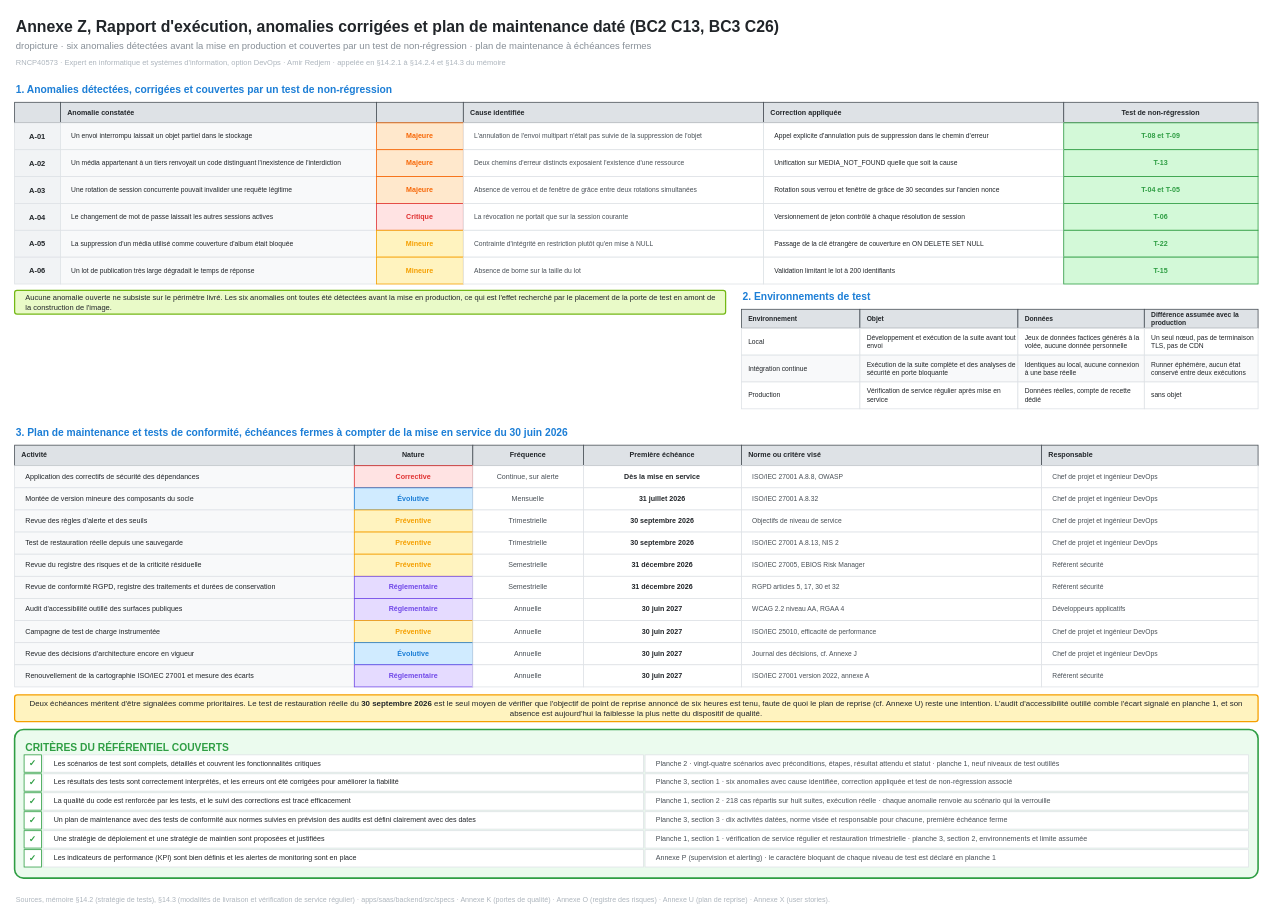
Image size: 1276x920. Some labels were removed from this diagram. The shapes that lost their labels are listed below. From the top down, each one's centre as x and y in pixels, then its label:
At pixel 37 112: "Réf.".
At pixel 419 112: "Sévérité".
